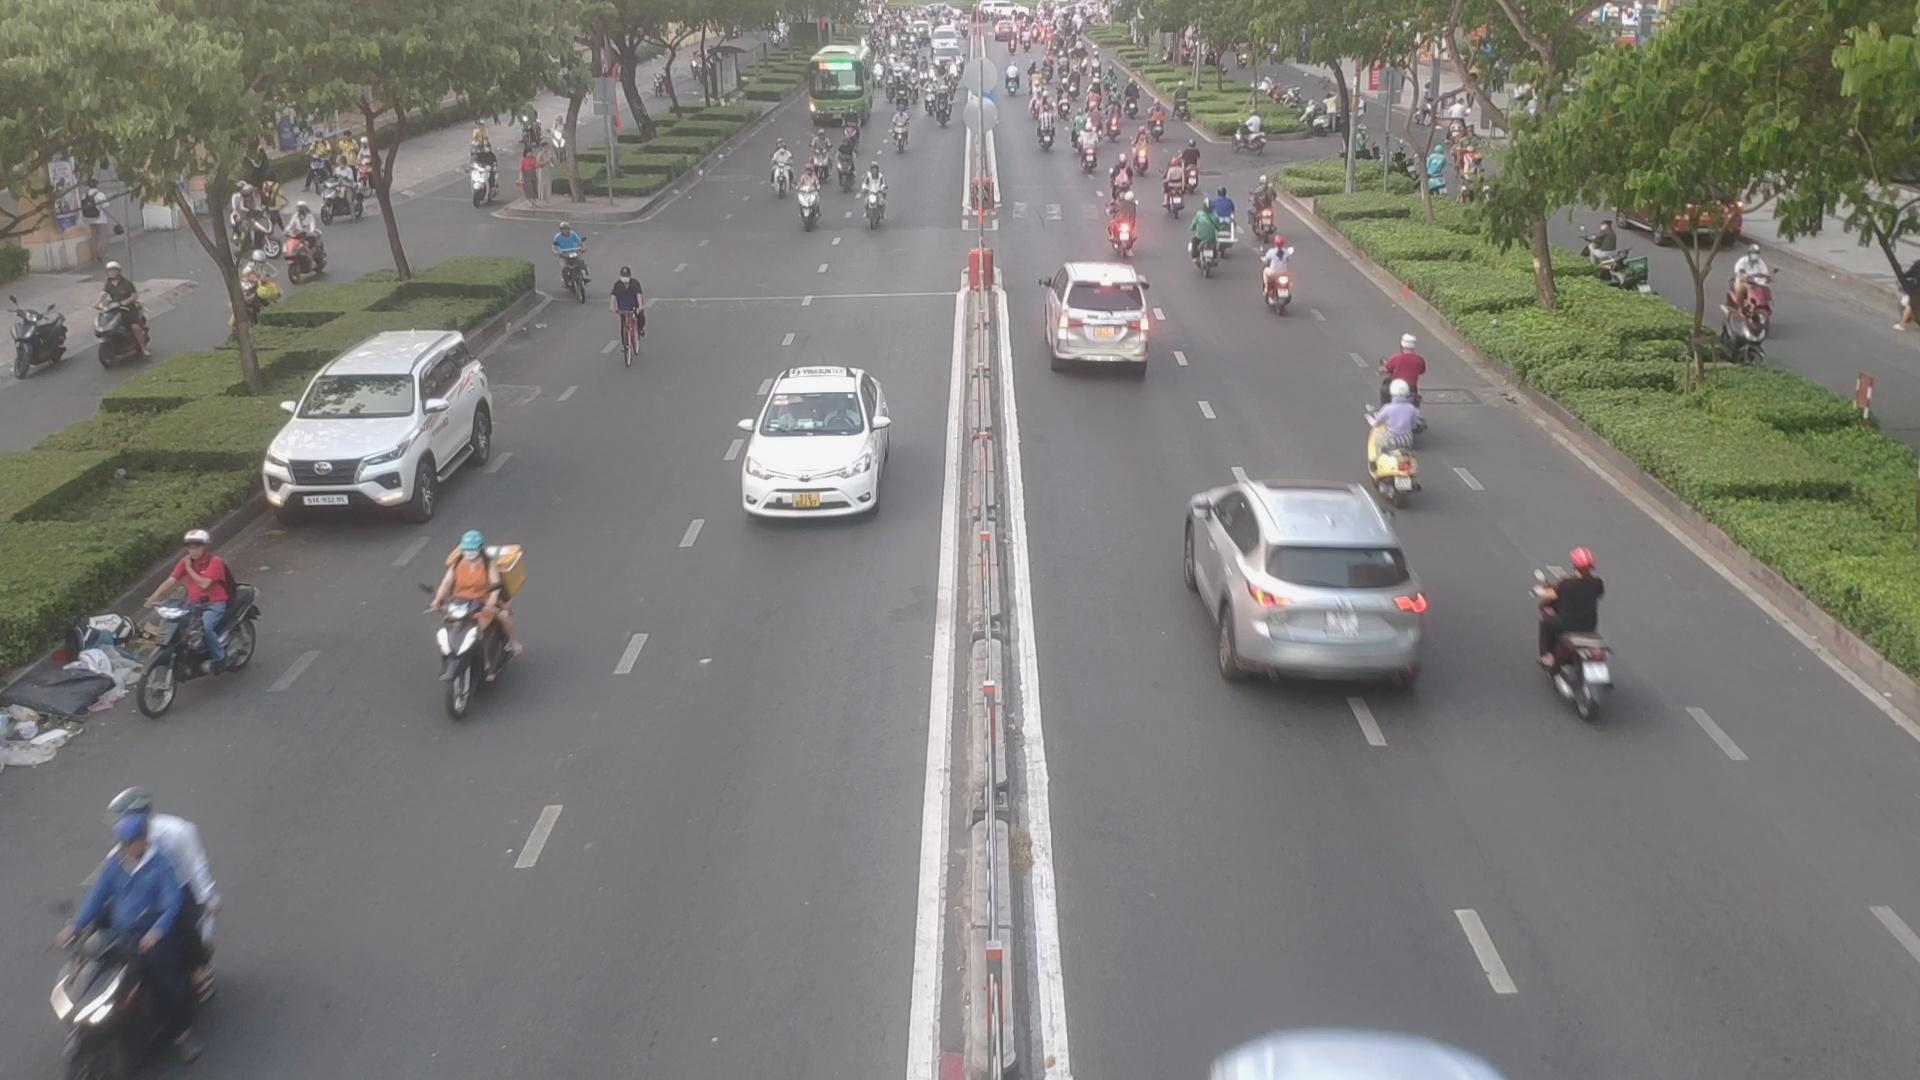bus: (800, 44, 870, 127)
car: (1174, 477, 1431, 686), (268, 328, 514, 524), (735, 363, 899, 516), (1043, 266, 1154, 373)
motorbike: (47, 796, 211, 1077), (124, 530, 266, 698), (426, 529, 527, 705), (1523, 589, 1615, 717), (1373, 378, 1436, 500), (604, 268, 655, 363), (1183, 200, 1232, 276), (1255, 244, 1302, 315), (1244, 185, 1291, 251), (550, 251, 593, 305), (798, 175, 829, 228), (1154, 174, 1188, 222), (764, 152, 796, 199)
